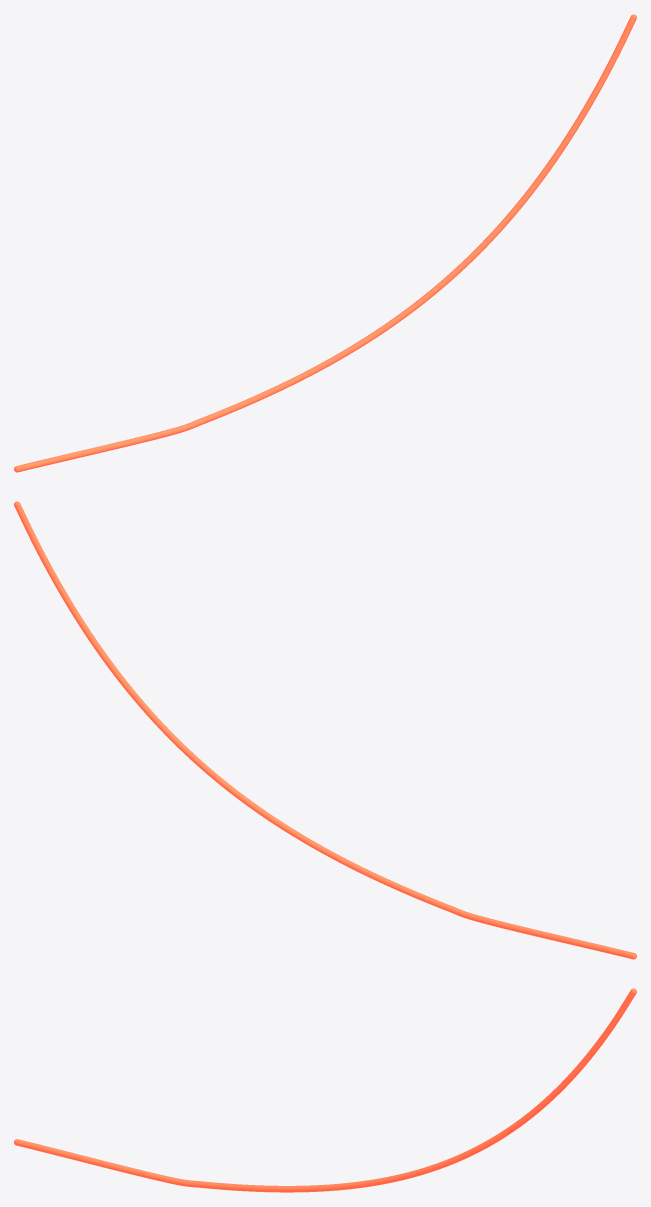
Rendered from line-climb.glb.
3 views of the same model, one above another, from view 1: azimuth 30°, elevation 25°; view 2: azimuth 150°, elevation 25°; view 3: azimuth 330°, elevation 25° (orthographic).
Parts seen in each view (by area): view 1: line; view 2: line; view 3: line.
Part boxes in pixels (x1,y1,x2,y2): line: [17, 17, 636, 471]; line: [14, 504, 633, 958]; line: [15, 991, 635, 1192].
Size of the model in its own units: 3.03 by 1.43 by 0.028.
